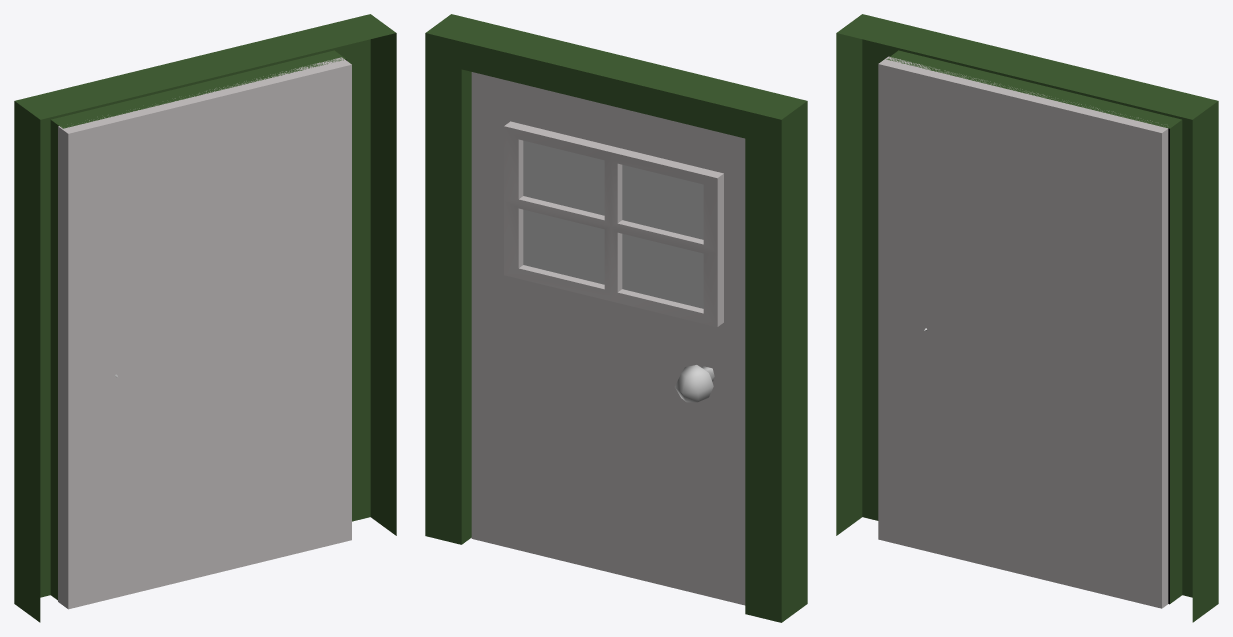
File: DoorFrame (2).fbx
The picture shows the model from 3 angles, left to right: view 1: azimuth 30°, elevation 25°; view 2: azimuth 150°, elevation 25°; view 3: azimuth 330°, elevation 25°; orthographic projection.
Visible parts, largest first — view 1: Door, DoorFrame (2); view 2: Door, DoorFrame (2); view 3: Door, DoorFrame (2).
Boxes of the visible parts, left/top/right/bottom form: Door: left=58, top=57, right=351, bottom=609; DoorFrame (2): left=14, top=14, right=396, bottom=622; Door: left=471, top=72, right=745, bottom=605; DoorFrame (2): left=425, top=14, right=807, bottom=622; Door: left=878, top=56, right=1168, bottom=608; DoorFrame (2): left=836, top=14, right=1218, bottom=622.
Bounding box in the file's own units: 2.28 × 3.08 × 0.471.
